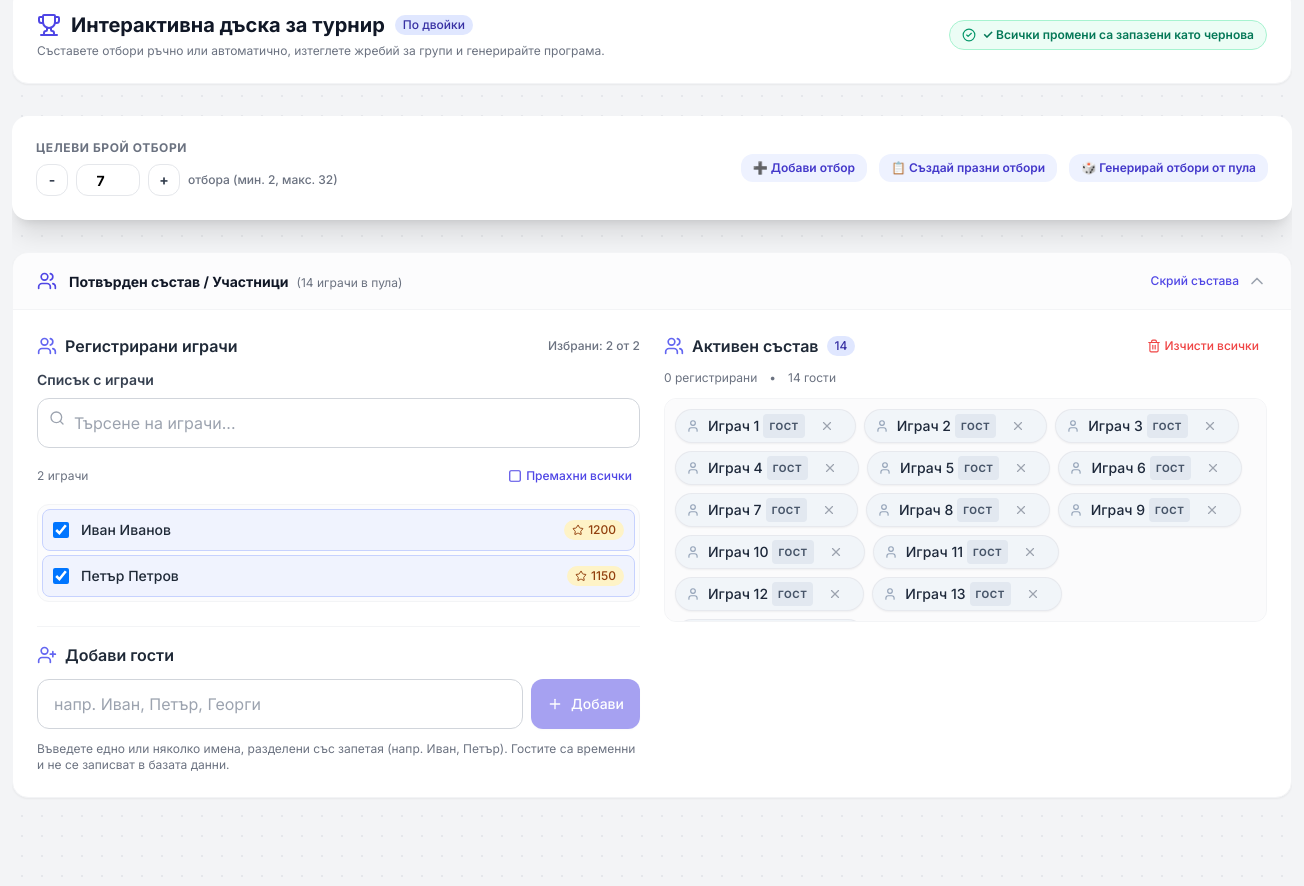
TournamentInteractiveBoard Component › Universal Mathematical Validation & Auto-Adjustment › P = 14, T = 7 (Case 3): generates exactly 7 full teams with no reserves and no banner
The image size is (1304, 886).
Click the button "🎲 Генерирай отбори от пула" at [1169, 168], box [1069,154,1268,182]
(page scrolled)
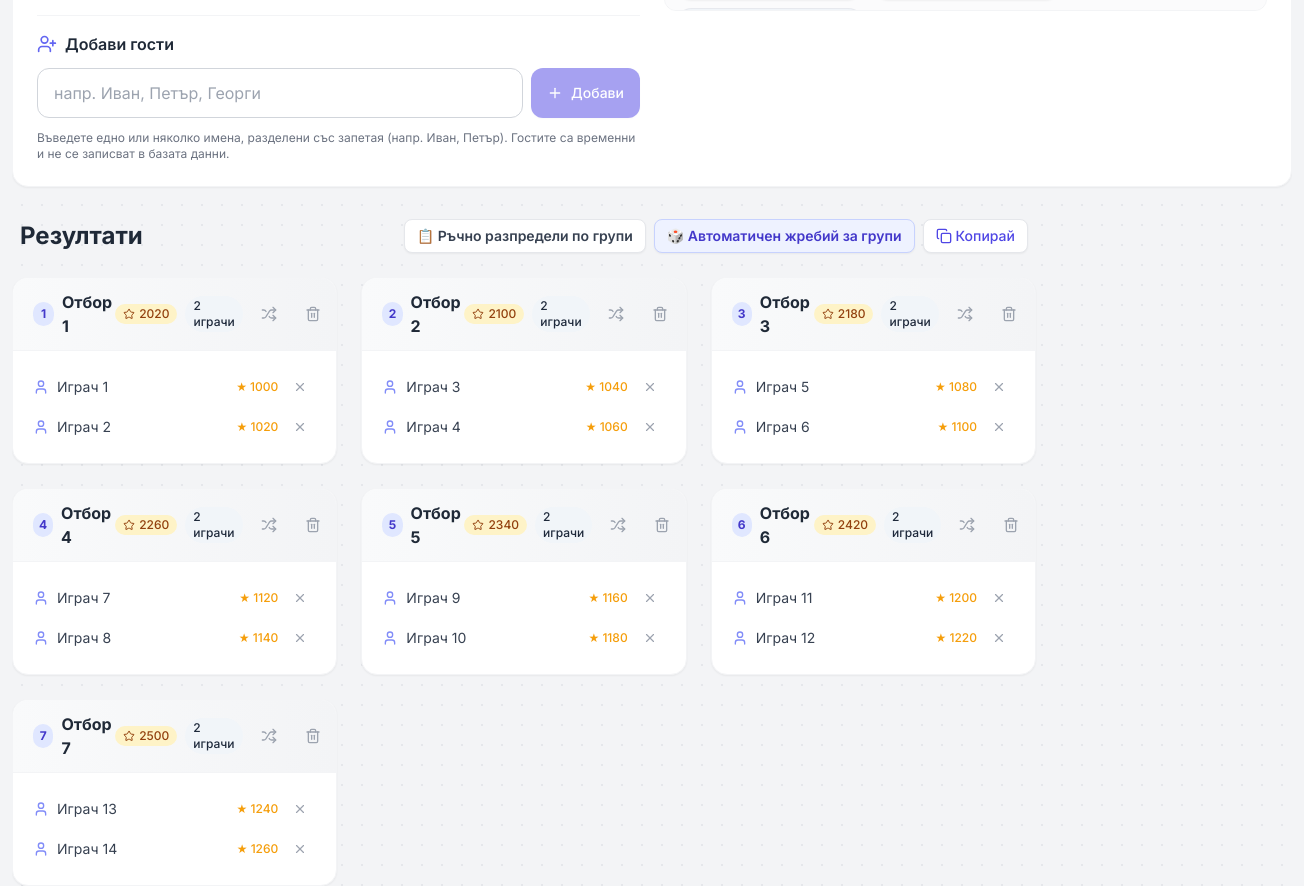
Expected: the heading "7 Отбор 7" is shown, [33,712,115,760]
